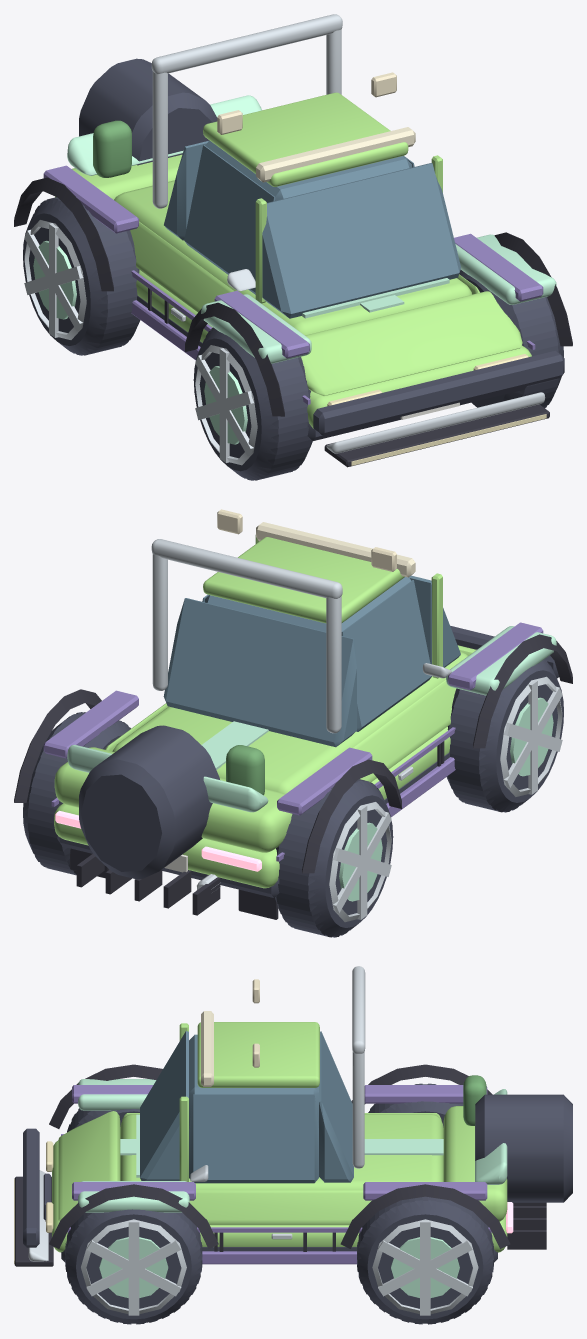
The model's file is basalt_bouncer.fbx.
3 views of the same model, one above another, from view 1: azimuth 30°, elevation 25°; view 2: azimuth 150°, elevation 25°; view 3: azimuth 270°, elevation 25° (orthographic). The views are drawn at different scales.
Parts seen in each view (by area): view 1: Body, Glass, Trim2, Accent2, Trim, Wheel_RR, Wheel_FR, Accent, Metal, Accent3, Wheel_FL, Light5 (+4 smaller); view 2: Glass, Body, Trim2, Trim, Wheel_RR, Accent, Accent2, Wheel_FR, Metal, Wheel_RL, Accent3, Metal2 (+5 smaller); view 3: Body, Glass, Trim2, Trim, Metal, Wheel_RL, Accent, Wheel_FL, Accent3, Accent2, Metal2, Light4 (+5 smaller).
Part boxes in pixels (bbox=[...]): Body: bbox=[55, 92, 531, 428]; Glass: bbox=[164, 140, 460, 318]; Trim2: bbox=[79, 58, 564, 440]; Accent2: bbox=[151, 14, 545, 453]; Trim: bbox=[14, 177, 572, 467]; Wheel_RR: bbox=[23, 197, 140, 355]; Wheel_FR: bbox=[193, 327, 312, 480]; Accent: bbox=[43, 165, 543, 404]; Metal: bbox=[24, 220, 257, 465]; Accent3: bbox=[67, 95, 556, 363]; Wheel_FL: bbox=[459, 269, 563, 407]; Light5: bbox=[256, 127, 415, 182]; Glass: bbox=[163, 575, 460, 747]; Body: bbox=[54, 535, 476, 888]; Trim2: bbox=[57, 626, 558, 897]; Trim: bbox=[14, 634, 572, 919]; Wheel_RR: bbox=[275, 779, 393, 937]; Accent: bbox=[43, 622, 543, 861]; Accent2: bbox=[151, 539, 451, 733]; Wheel_FR: bbox=[446, 659, 563, 812]; Metal: bbox=[24, 676, 562, 922]; Wheel_RL: bbox=[23, 712, 130, 875]; Accent3: bbox=[67, 626, 556, 812]; Metal2: bbox=[339, 697, 553, 901]; Body: bbox=[52, 1022, 507, 1252]; Glass: bbox=[140, 1031, 353, 1183]; Trim2: bbox=[23, 1094, 572, 1262]; Trim: bbox=[14, 1064, 546, 1266]; Metal: bbox=[81, 1219, 478, 1315]; Wheel_RL: bbox=[357, 1196, 493, 1324]; Accent: bbox=[61, 1085, 491, 1264]; Wheel_FL: bbox=[65, 1209, 202, 1324]; Accent3: bbox=[78, 1079, 507, 1212]; Accent2: bbox=[28, 966, 365, 1261]; Metal2: bbox=[99, 1237, 459, 1297]; Light4: bbox=[120, 1139, 443, 1155].
Size of the model in its own units: 3.11 by 2.93 by 5.65.
